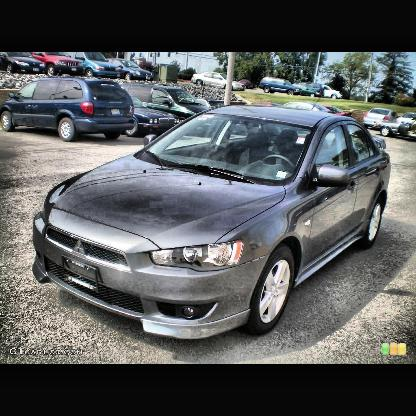Mitsubishi Lancer Sedan 2012: (32, 105, 392, 346)
